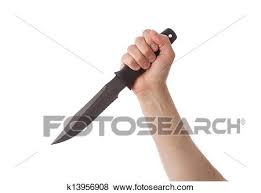knife: (51, 26, 179, 146)
